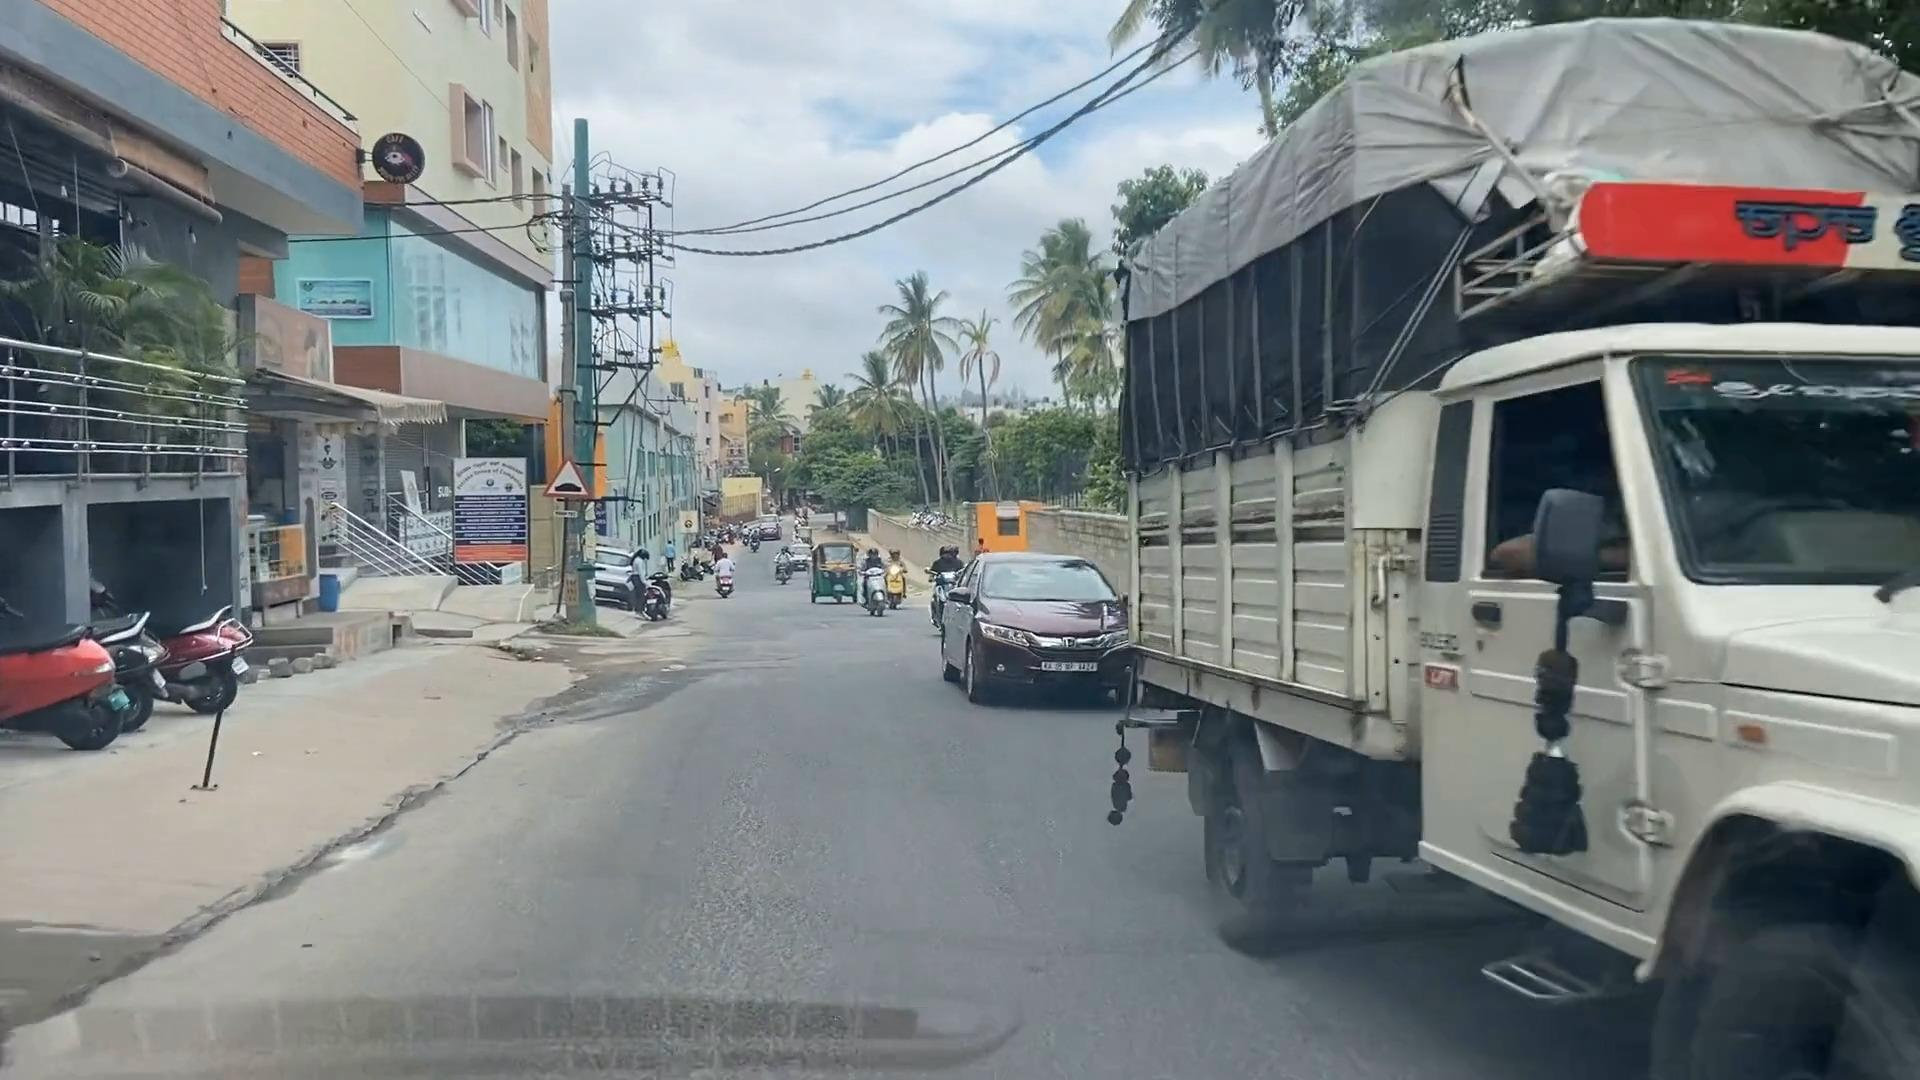HMV: (1109, 0, 1920, 1080)
LMV: (928, 529, 1142, 748)
